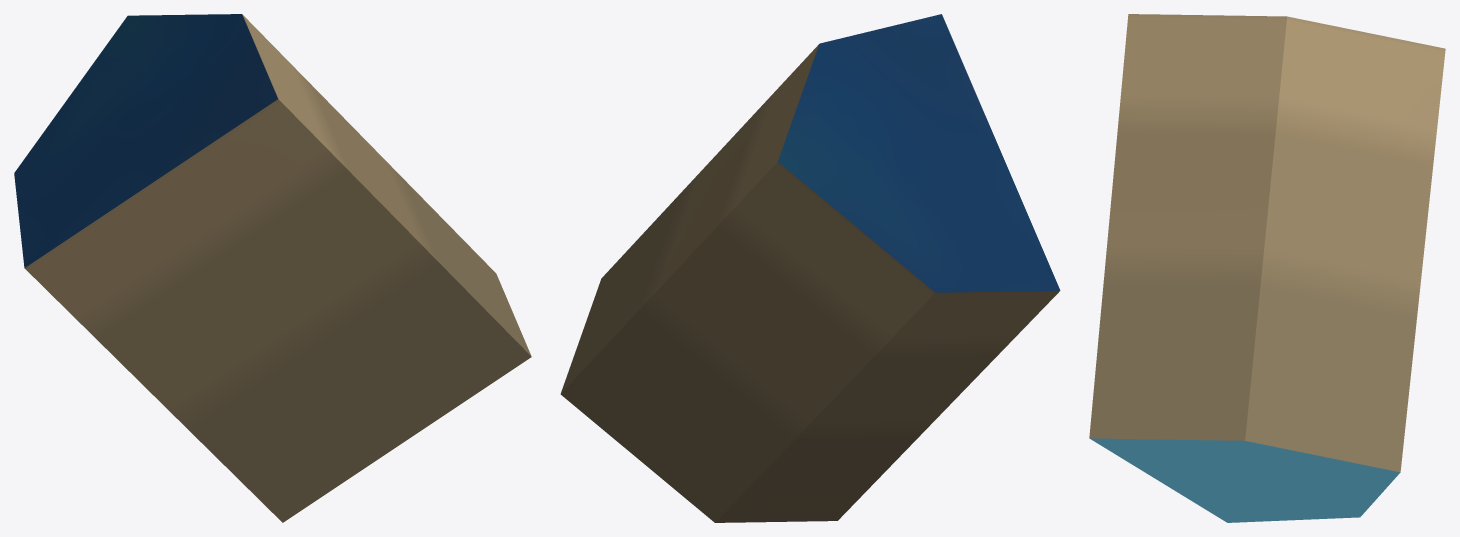
File: 0609_Palau.glb
3 renders of one model, left to right at view 1: azimuth 30°, elevation 25°; view 2: azimuth 150°, elevation 25°; view 3: azimuth 270°, elevation 25°, orthographic. The views are drawn at different scales.
Parts seen in each view (by area): view 1: part_0; view 2: part_0; view 3: part_0.
Boxes of the visible parts, x1,y1,x2,y2 form: part_0: (14, 14, 531, 522); part_0: (560, 14, 1060, 522); part_0: (1089, 14, 1445, 522).
Bounding box in the file's own units: 0.247 × 0.2515 × 0.1622.
Materials: 1 (1 with a texture image).
